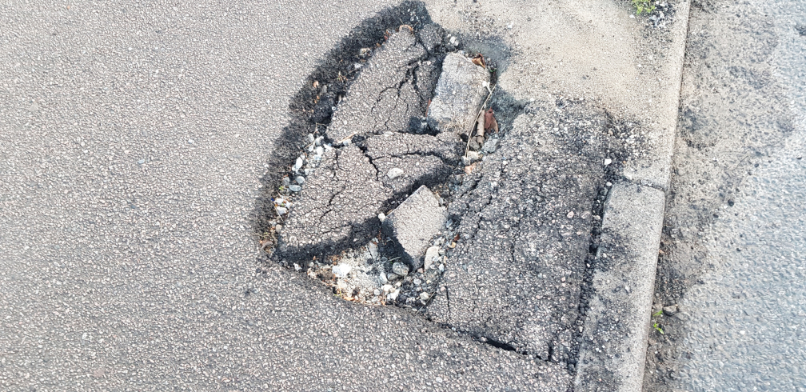pothole: (244, 1, 630, 367)
